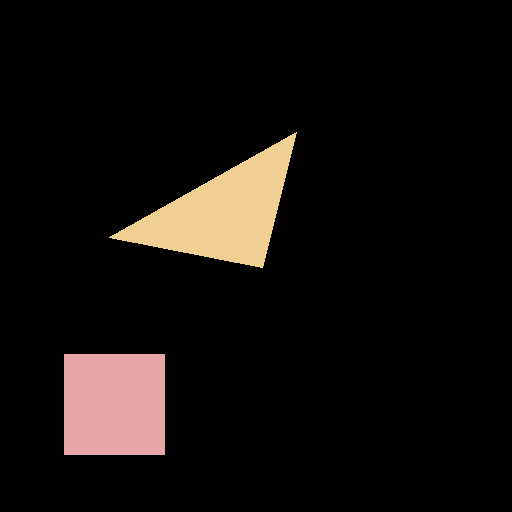square: (64, 354, 164, 454)
triangle: (109, 132, 296, 267)
